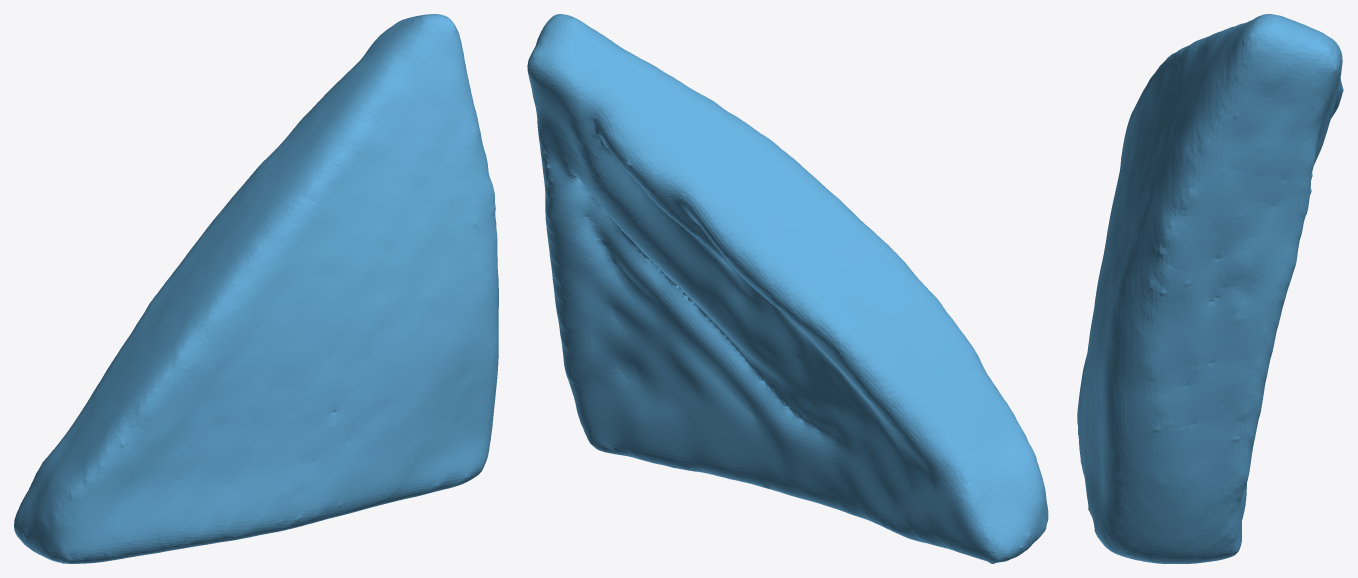
The model's file is cream_cake1.obj.
3 renders of one model, left to right at view 1: azimuth 30°, elevation 25°; view 2: azimuth 150°, elevation 25°; view 3: azimuth 270°, elevation 25°, orthographic. The views are drawn at different scales.
Bounding box in the file's own units: 0.8734 × 0.7876 × 0.3407.
